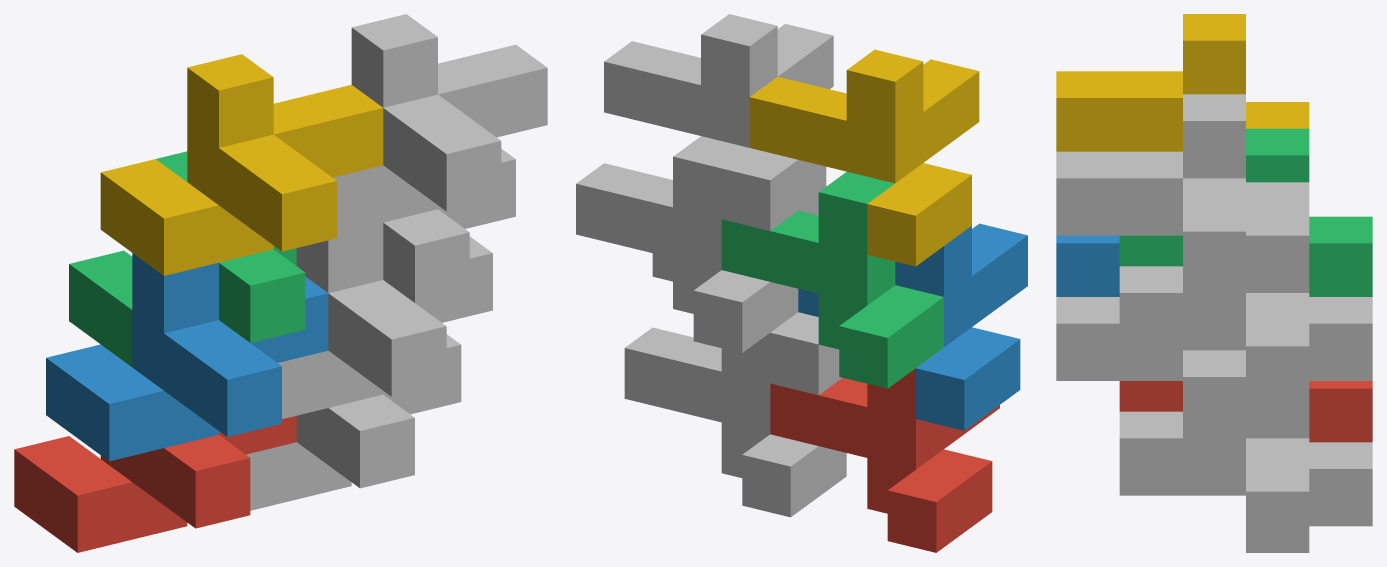
The model's file is tiling.obj.
3 views of the same model, side by side, from view 1: azimuth 30°, elevation 25°; view 2: azimuth 150°, elevation 25°; view 3: azimuth 270°, elevation 25° (orthographic). The views are drawn at different scales.
Visible parts, largest first — view 1: copy_1_domain_4, copy_1_domain_2, copy_1_domain_8, copy_1_domain_1, copy_1_domain_6, copy_1_domain_5, copy_1_domain_3, copy_1_domain_7; view 2: copy_1_domain_4, copy_1_domain_8, copy_1_domain_3, copy_1_domain_7, copy_1_domain_1, copy_1_domain_5, copy_1_domain_2, copy_1_domain_6; view 3: copy_1_domain_7, copy_1_domain_8, copy_1_domain_5, copy_1_domain_4, copy_1_domain_6, copy_1_domain_3, copy_1_domain_1, copy_1_domain_2.
Boxes of the visible parts, box(x1,y1,x2,y2) form: copy_1_domain_4: box(100, 54, 383, 275); copy_1_domain_2: box(46, 253, 328, 461); copy_1_domain_8: box(333, 14, 547, 233); copy_1_domain_1: box(14, 416, 296, 552); copy_1_domain_6: box(278, 222, 492, 419); copy_1_domain_5: box(246, 334, 461, 510); copy_1_domain_3: box(69, 151, 305, 366); copy_1_domain_7: box(383, 149, 515, 302); copy_1_domain_4: box(749, 49, 979, 266); copy_1_domain_8: box(604, 14, 833, 230); copy_1_domain_3: box(721, 171, 943, 388); copy_1_domain_7: box(576, 136, 798, 352); copy_1_domain_1: box(770, 368, 999, 552); copy_1_domain_5: box(624, 327, 846, 517); copy_1_domain_2: box(798, 223, 1027, 430); copy_1_domain_6: box(652, 196, 842, 395); copy_1_domain_7: box(1119, 209, 1372, 407); copy_1_domain_8: box(1056, 94, 1309, 292); copy_1_domain_5: box(1119, 407, 1372, 552); copy_1_domain_4: box(1056, 14, 1309, 151); copy_1_domain_6: box(1056, 297, 1245, 438); copy_1_domain_3: box(1119, 128, 1372, 296); copy_1_domain_1: box(1119, 381, 1372, 442); copy_1_domain_2: box(1056, 235, 1119, 296).
Size of the model in its own units: 8 by 8 by 5.
